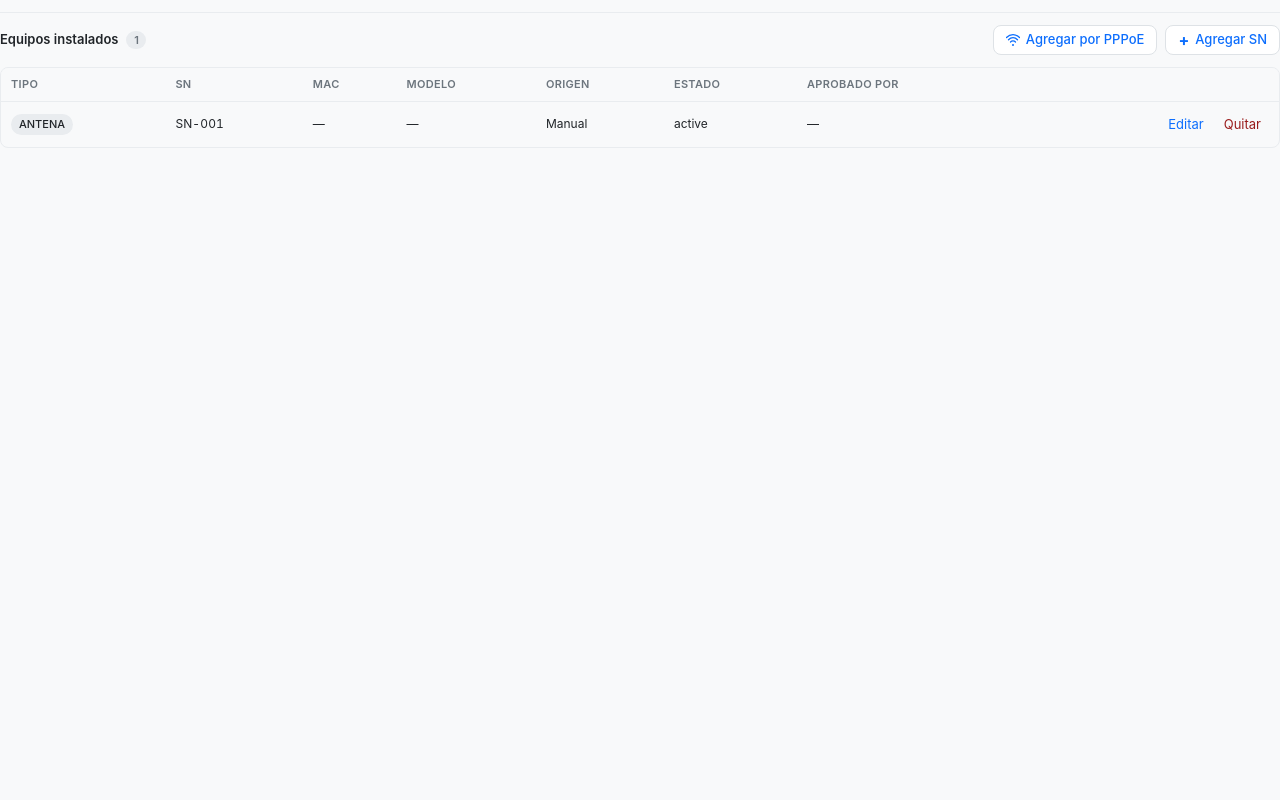
it: ServiceInventorySection — Quitar (retire flow) › "Quitar" opens the destination modal
Click the button "Quitar" at coordinates (1242, 124), box [1216,110,1269,138]
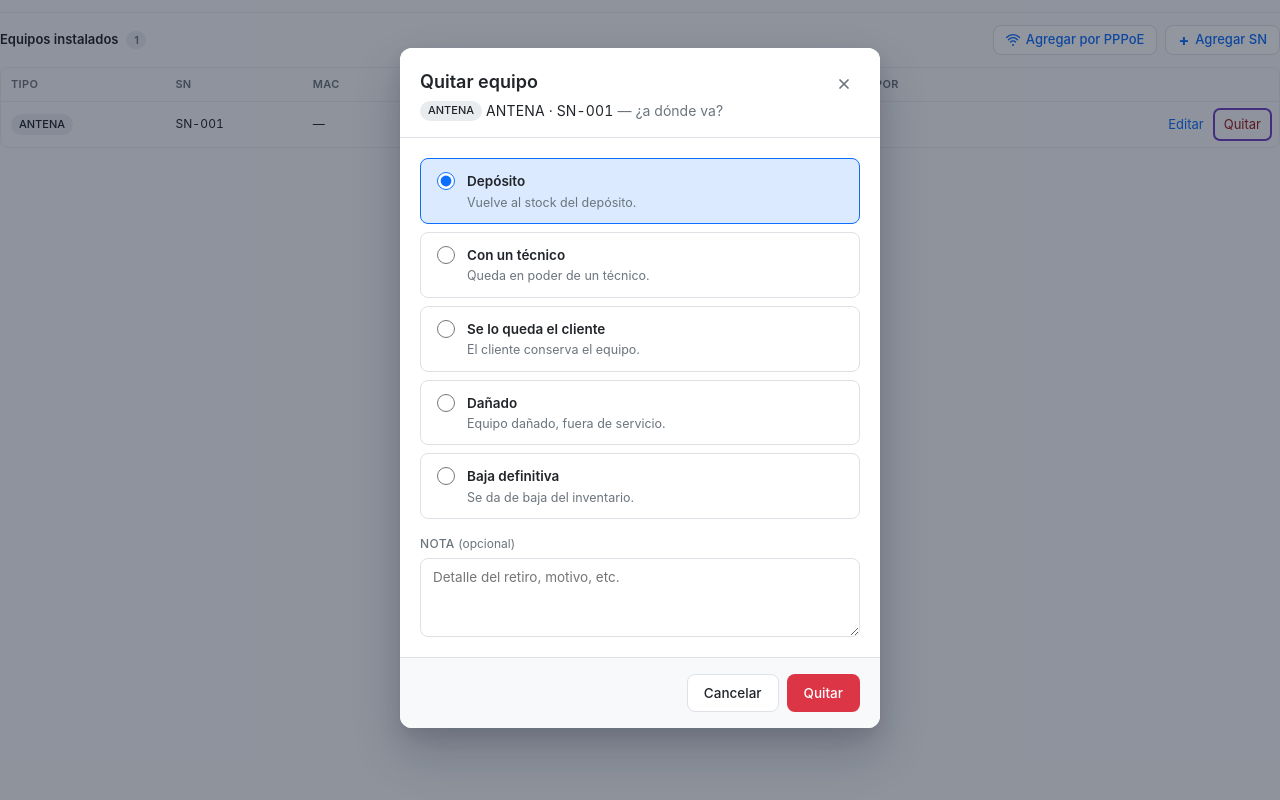
Now the dialog is shown
Now the radio button labelled "Depósito Vuelve al stock del depósito." is shown, box [437,172,455,190]
